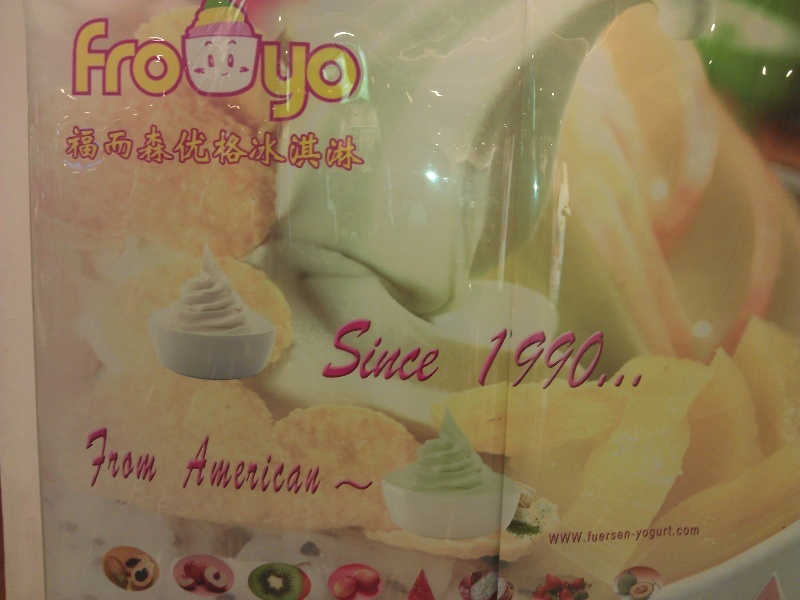text: (81, 18, 96, 101), (97, 18, 112, 101), (113, 18, 128, 101), (129, 18, 144, 101), (145, 18, 160, 101), (161, 18, 176, 101), (273, 42, 288, 121), (289, 42, 304, 121), (305, 42, 320, 121), (321, 42, 336, 121), (337, 42, 352, 121), (145, 422, 161, 494), (97, 422, 112, 494), (113, 422, 128, 494), (129, 422, 144, 494), (193, 432, 208, 503), (209, 432, 224, 503), (225, 432, 240, 503), (241, 432, 256, 503), (257, 432, 272, 503), (273, 432, 288, 503), (289, 432, 304, 503), (305, 432, 320, 503), (337, 318, 352, 384), (353, 318, 368, 384), (369, 318, 384, 384), (385, 318, 400, 384), (401, 318, 416, 384), (417, 318, 432, 384), (481, 325, 496, 389), (497, 325, 512, 389), (513, 325, 528, 389), (529, 325, 544, 389), (545, 325, 560, 389), (561, 325, 576, 389), (577, 325, 592, 389), (593, 325, 608, 389), (609, 325, 624, 389), (625, 325, 640, 389), (84, 422, 96, 494), (433, 318, 446, 384), (81, 123, 96, 172), (97, 123, 112, 172), (113, 123, 128, 172), (129, 123, 144, 172), (145, 123, 160, 172), (161, 123, 176, 172), (177, 123, 192, 172), (193, 123, 208, 172), (209, 123, 224, 172), (225, 123, 240, 172), (241, 123, 256, 172), (257, 123, 272, 172), (273, 123, 288, 172), (289, 123, 304, 172), (305, 123, 320, 172), (321, 123, 336, 172), (337, 123, 352, 172), (263, 42, 272, 121), (72, 18, 80, 101), (67, 123, 80, 172), (353, 123, 366, 172), (353, 42, 361, 121), (184, 432, 192, 503), (328, 318, 336, 384), (177, 18, 183, 101), (321, 432, 326, 503), (561, 523, 576, 546), (577, 523, 592, 546), (593, 523, 608, 546), (609, 523, 624, 546), (625, 523, 640, 546), (641, 523, 656, 546), (657, 523, 672, 546), (673, 523, 688, 546), (337, 475, 352, 495), (353, 475, 368, 495), (548, 523, 560, 546), (689, 523, 701, 546), (641, 325, 645, 389), (369, 475, 377, 495), (478, 325, 480, 389), (333, 475, 336, 495)
